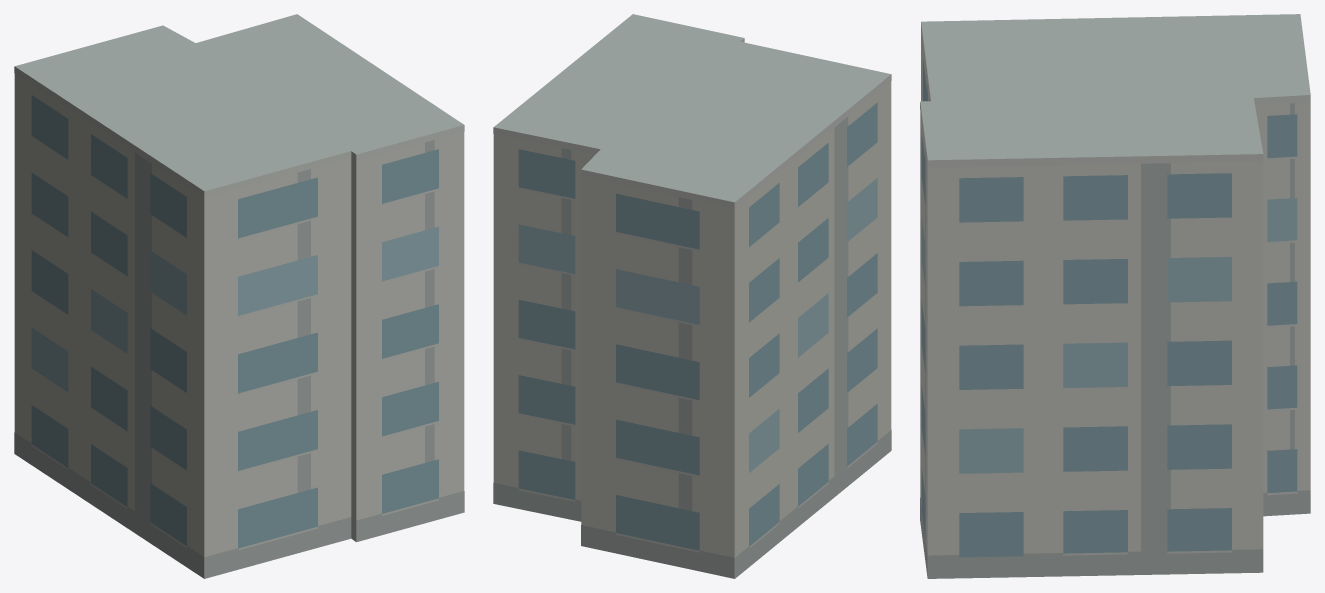
Rendered from survey-upis-33024623.glb.
3 views of the same model, side by side, from view 1: azimuth 30°, elevation 25°; view 2: azimuth 150°, elevation 25°; view 3: azimuth 270°, elevation 25° (orthographic). The views are drawn at different scales.
Visible parts, largest first — view 1: survey-upis-33024623.tmp; view 2: survey-upis-33024623.tmp; view 3: survey-upis-33024623.tmp.
Boxes of the visible parts, box(x1,y1,x2,y2) form: survey-upis-33024623.tmp: box(14, 14, 464, 578); survey-upis-33024623.tmp: box(493, 14, 891, 578); survey-upis-33024623.tmp: box(920, 14, 1310, 578).
Size of the model in its own units: 10.31 by 13.75 by 11.64.
